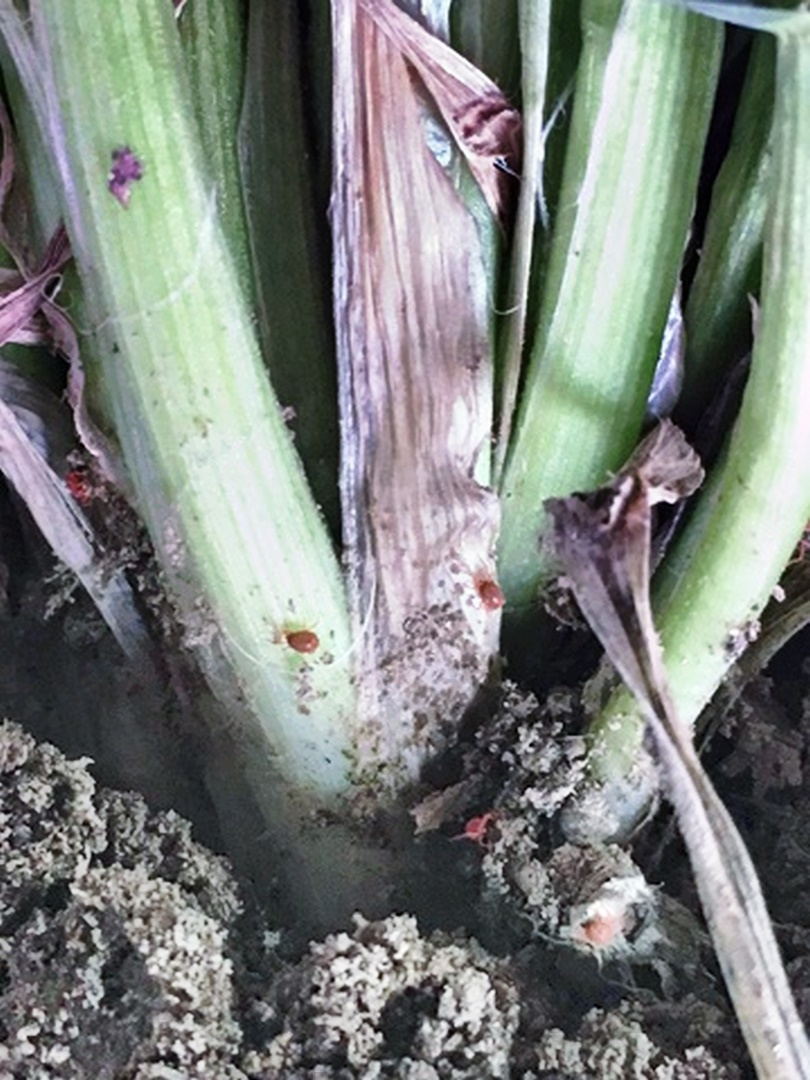Wheat Red Spider: (262, 617, 331, 671)
